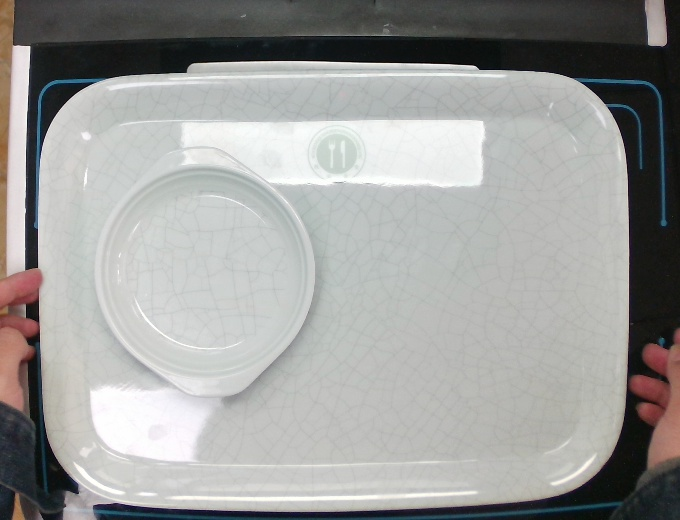JYsf-Shuang_Er_Pan: (88, 142, 321, 402)
